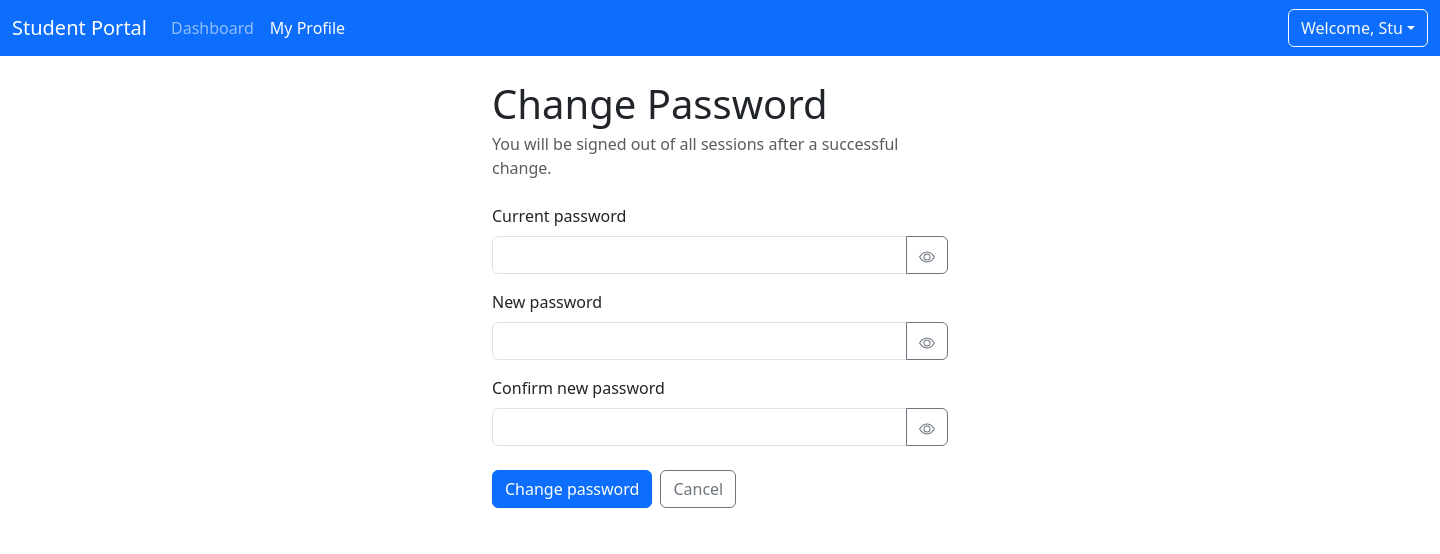
Accessibility (§2.5) › Change password API error alert has role="alert"
Type "cur!PwdABC12" into the password field labelled "Current password".
click(700, 255); type("cur!PwdABC12")  # box [492,236,907,274]
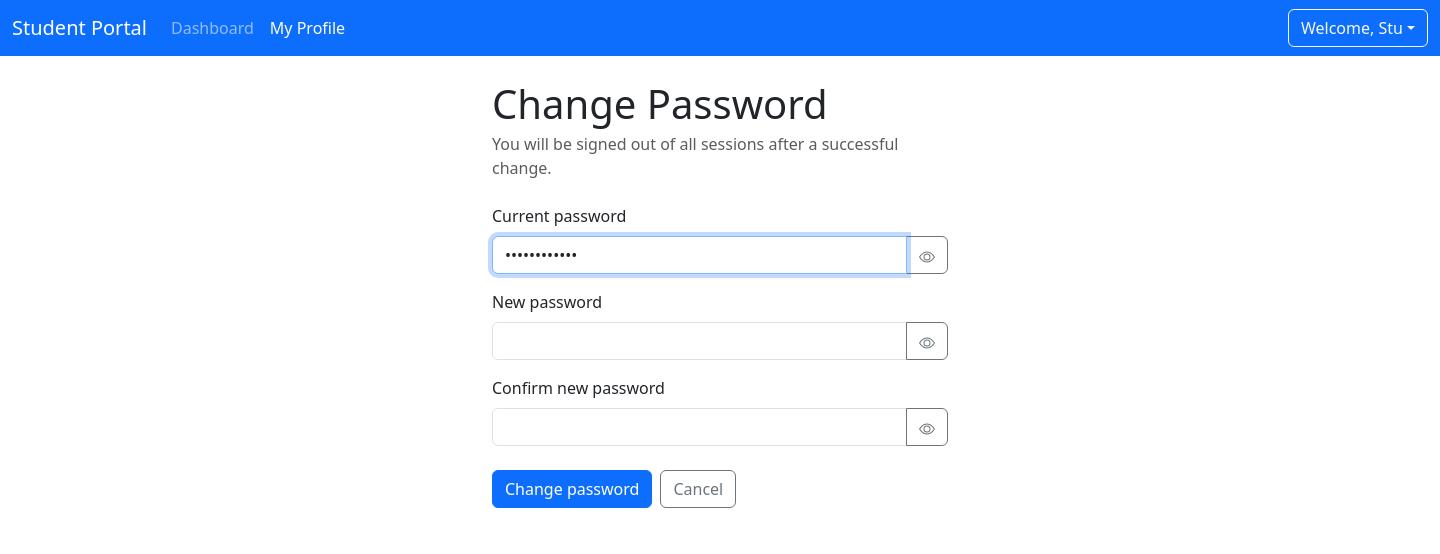
Note: Deliberately mismatched to trigger inline error.
Type "NewPassword!1A" into the password field labelled "New password".
click(700, 341); type("NewPassword!1A")  # box [492,322,907,360]
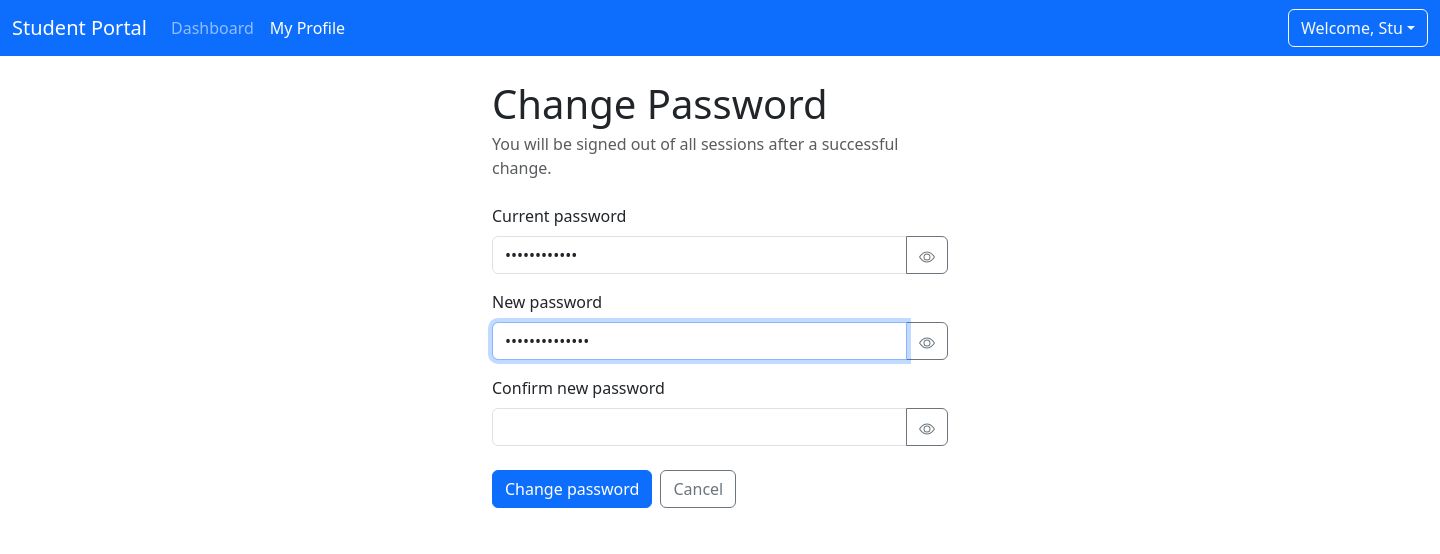
Type "Different!1AB" into the password field labelled "Confirm new password".
click(700, 427); type("Different!1AB")  # box [492,408,907,446]
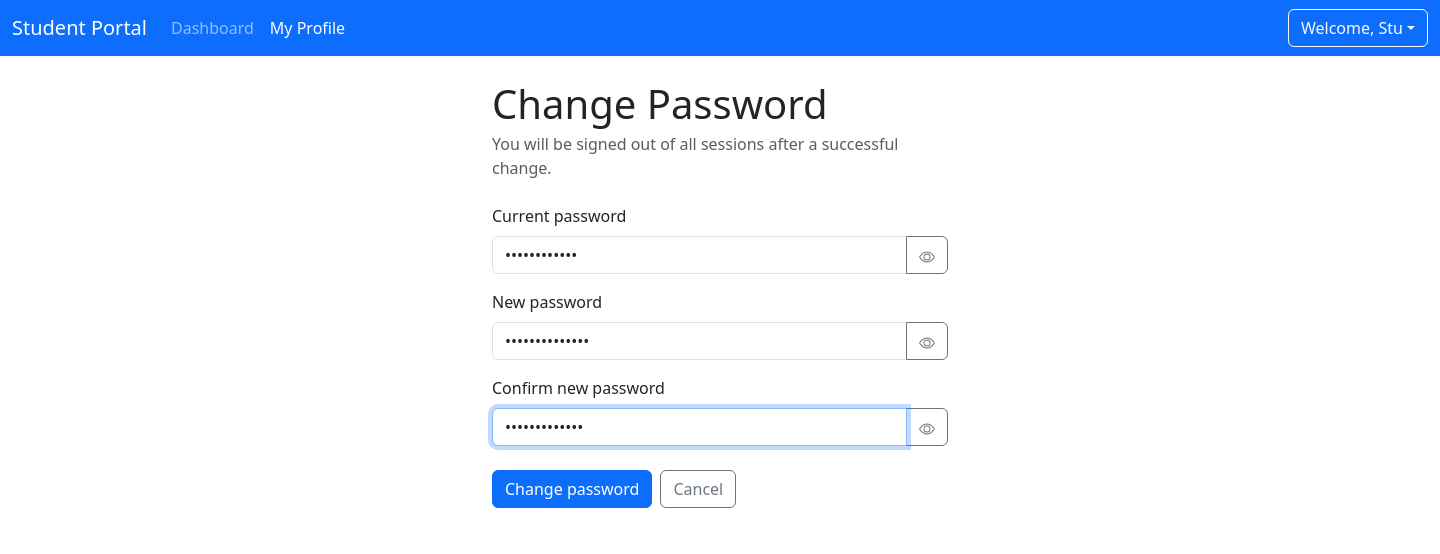
Click the button "Change password".
click(572, 489)  # box [492,470,652,508]
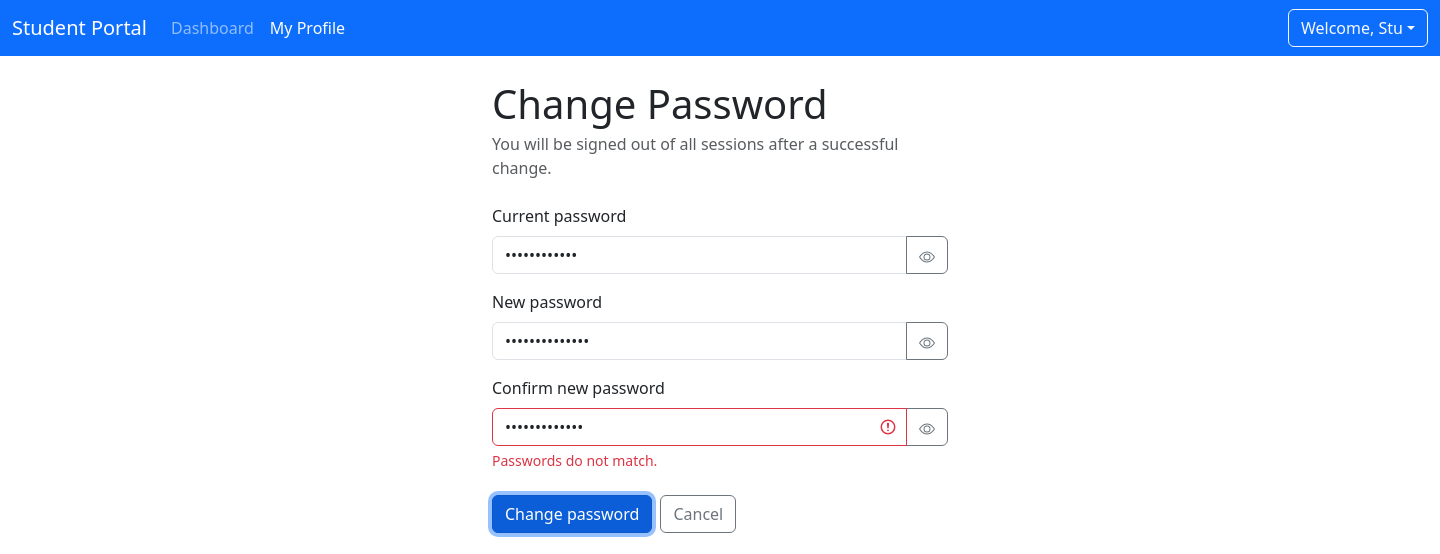
Expected: the text "Passwords do not match." is shown, [492,451,657,470]
